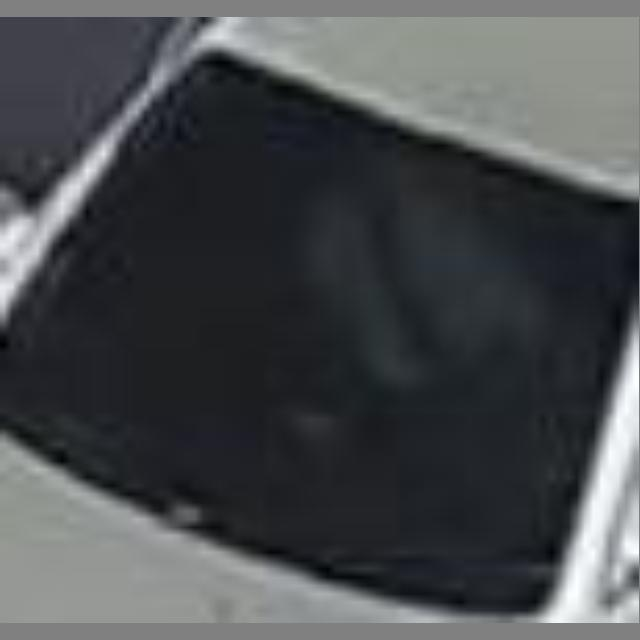pakai: (291, 150, 524, 424)
